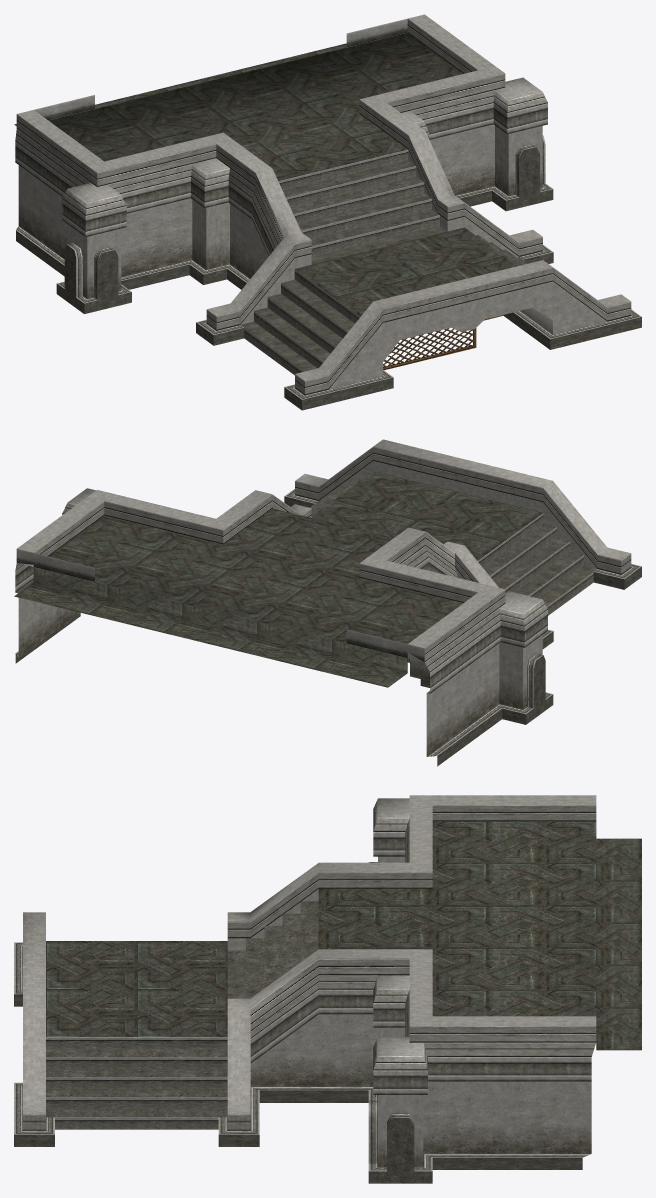
Rendered from MAINHALL_DOOR_STAIRCASE.fbx.
The picture shows the model from 3 angles, top to bottom: view 1: azimuth 30°, elevation 25°; view 2: azimuth 150°, elevation 25°; view 3: azimuth 270°, elevation 25°; orthographic projection. The views are drawn at different scales.
Visible parts, largest first — view 1: MAINHALL_DOOR_STAIRCASE; view 2: MAINHALL_DOOR_STAIRCASE; view 3: MAINHALL_DOOR_STAIRCASE.
Part boxes in pixels (x1,y1,x2,y2): MAINHALL_DOOR_STAIRCASE: [14, 14, 641, 410]; MAINHALL_DOOR_STAIRCASE: [14, 439, 641, 766]; MAINHALL_DOOR_STAIRCASE: [14, 795, 641, 1183].
Bounding box in the file's own units: 138000 × 41129 × 138052.
13 materials, 13 textured.
